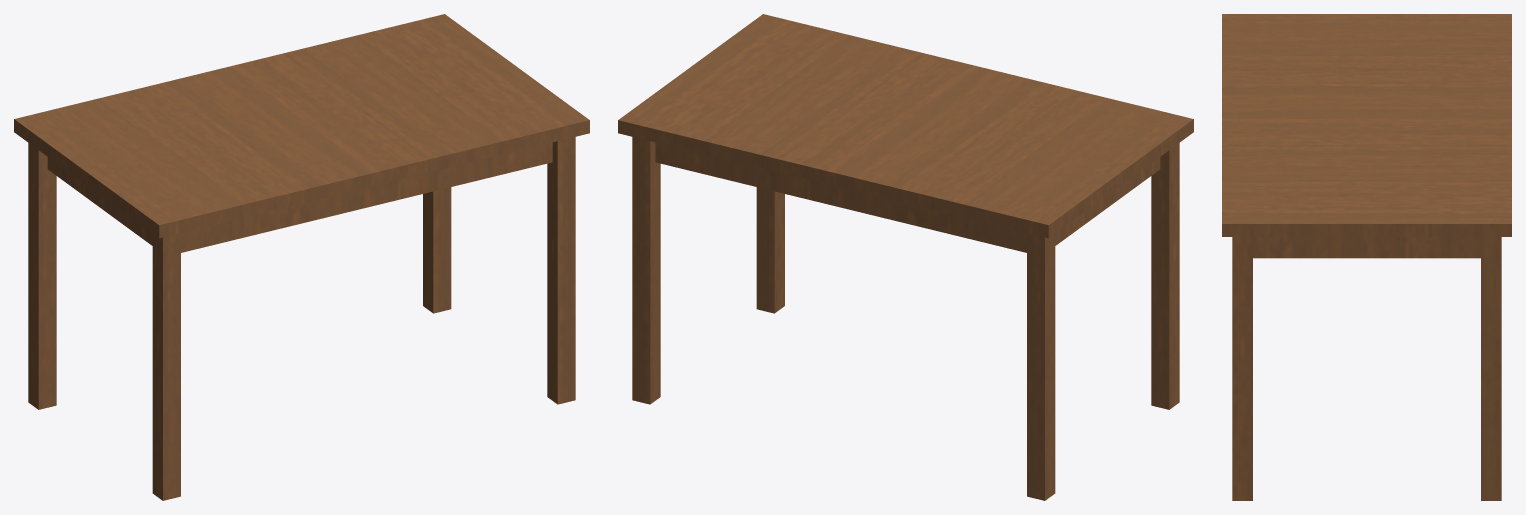
The model's file is Table_Plain.fbx.
3 views of the same model, side by side, from view 1: azimuth 30°, elevation 25°; view 2: azimuth 150°, elevation 25°; view 3: azimuth 270°, elevation 25° (orthographic).
Parts seen in each view (by area): view 1: СТОЛ ОБЫЧНЫЙ; view 2: СТОЛ ОБЫЧНЫЙ; view 3: СТОЛ ОБЫЧНЫЙ.
Part boxes in pixels (<box>): СТОЛ ОБЫЧНЫЙ: <box>14,14,589,500</box>; СТОЛ ОБЫЧНЫЙ: <box>618,14,1193,500</box>; СТОЛ ОБЫЧНЫЙ: <box>1222,14,1511,500</box>.
Bounding box in the file's own units: 1.2 × 0.75 × 0.7.
Materials: 1 (1 with a texture image).
